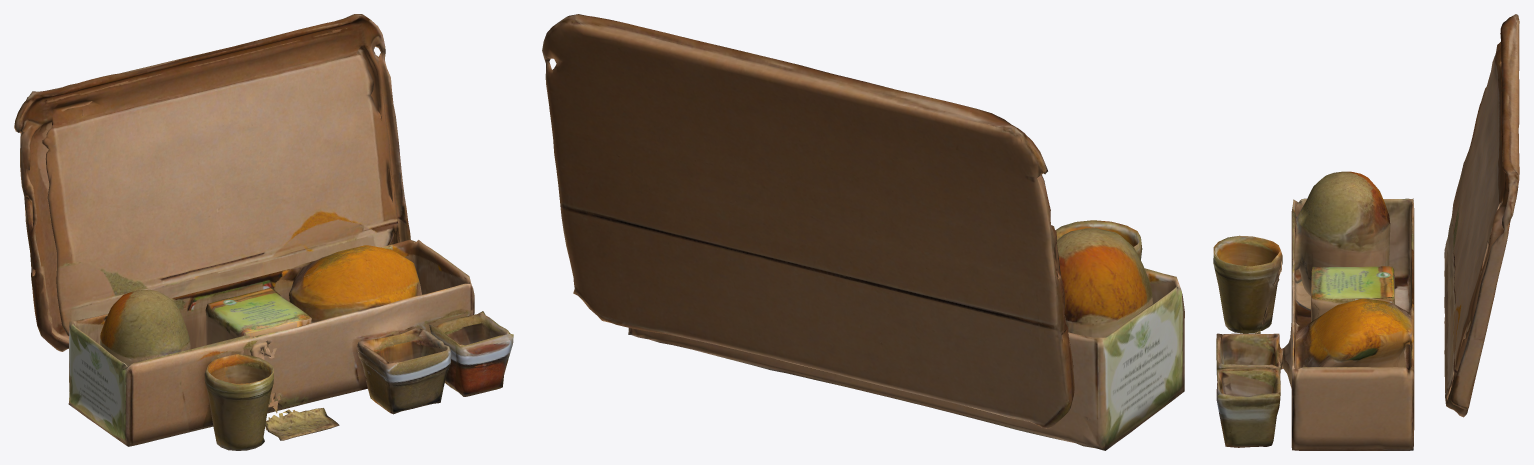
3 views of the same model, side by side, from view 1: azimuth 30°, elevation 25°; view 2: azimuth 150°, elevation 25°; view 3: azimuth 270°, elevation 25° (orthographic). The views are drawn at different scales.
Visible parts, largest first — view 1: Mesh_0; view 2: Mesh_0; view 3: Mesh_0.
Boxes of the visible parts, box(x1,y1,x2,y2) form: Mesh_0: box(14, 14, 513, 450); Mesh_0: box(542, 14, 1184, 450); Mesh_0: box(1213, 14, 1519, 450).
Size of the model in its own units: 2.01 by 1.43 by 1.43.
Materials: 1 (1 with a texture image).
